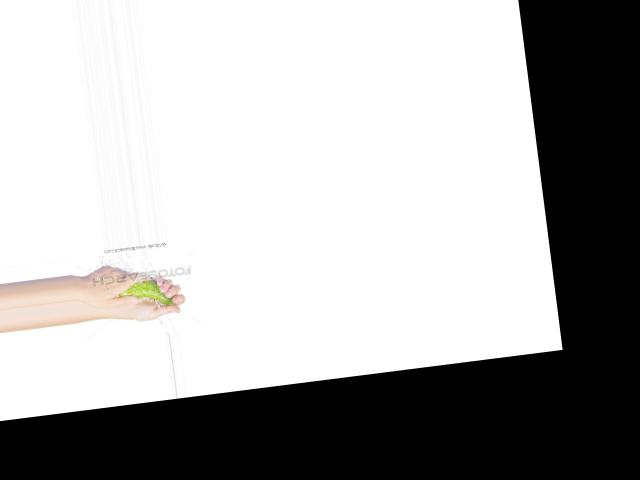cucumber: (115, 275, 175, 311)
